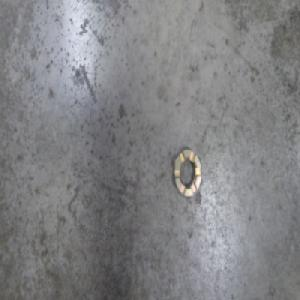Nut: (173, 145, 201, 200)
